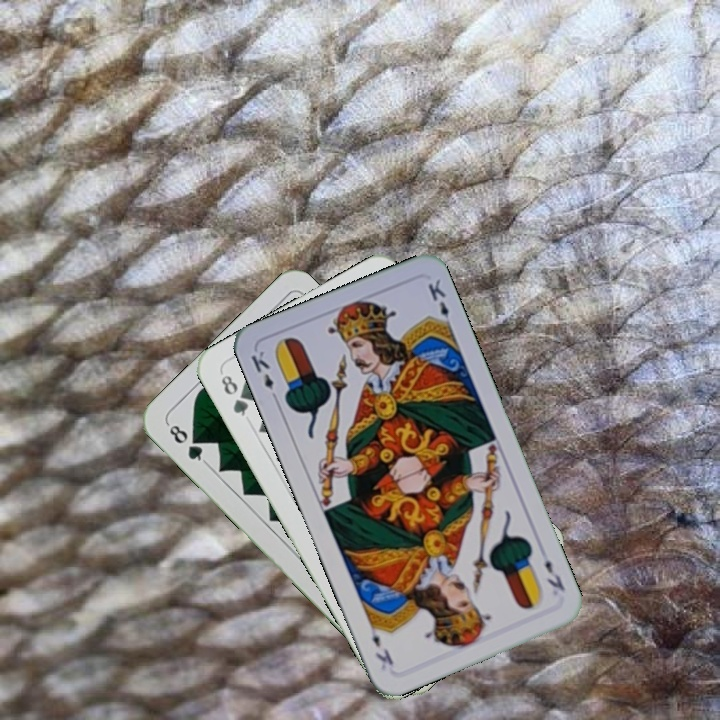EK: (246, 346, 281, 405), (541, 555, 568, 594)
G8: (163, 418, 209, 466), (216, 368, 252, 419)
